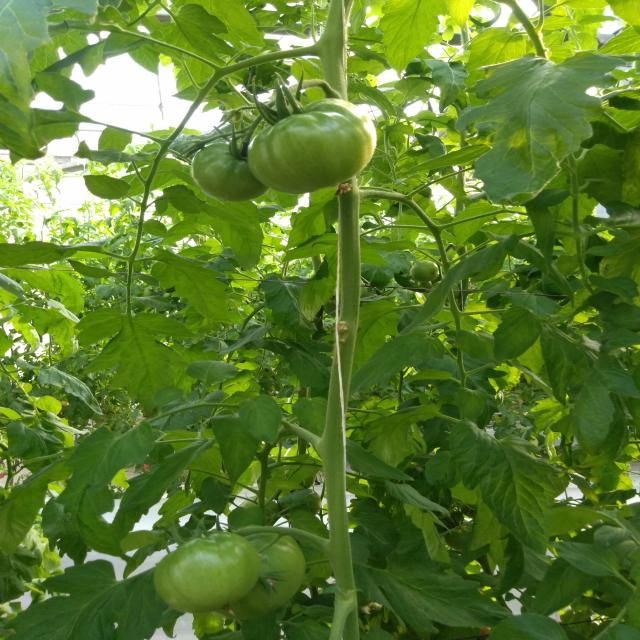yesil: (174, 109, 410, 249), (142, 508, 300, 624)
